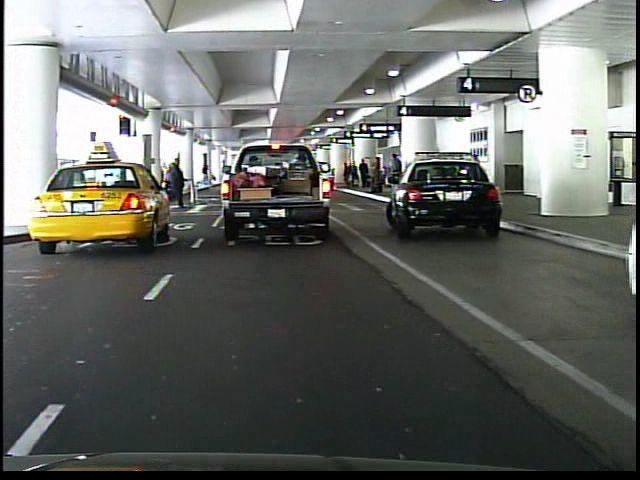person: (241, 147, 264, 202), (165, 154, 185, 207)
